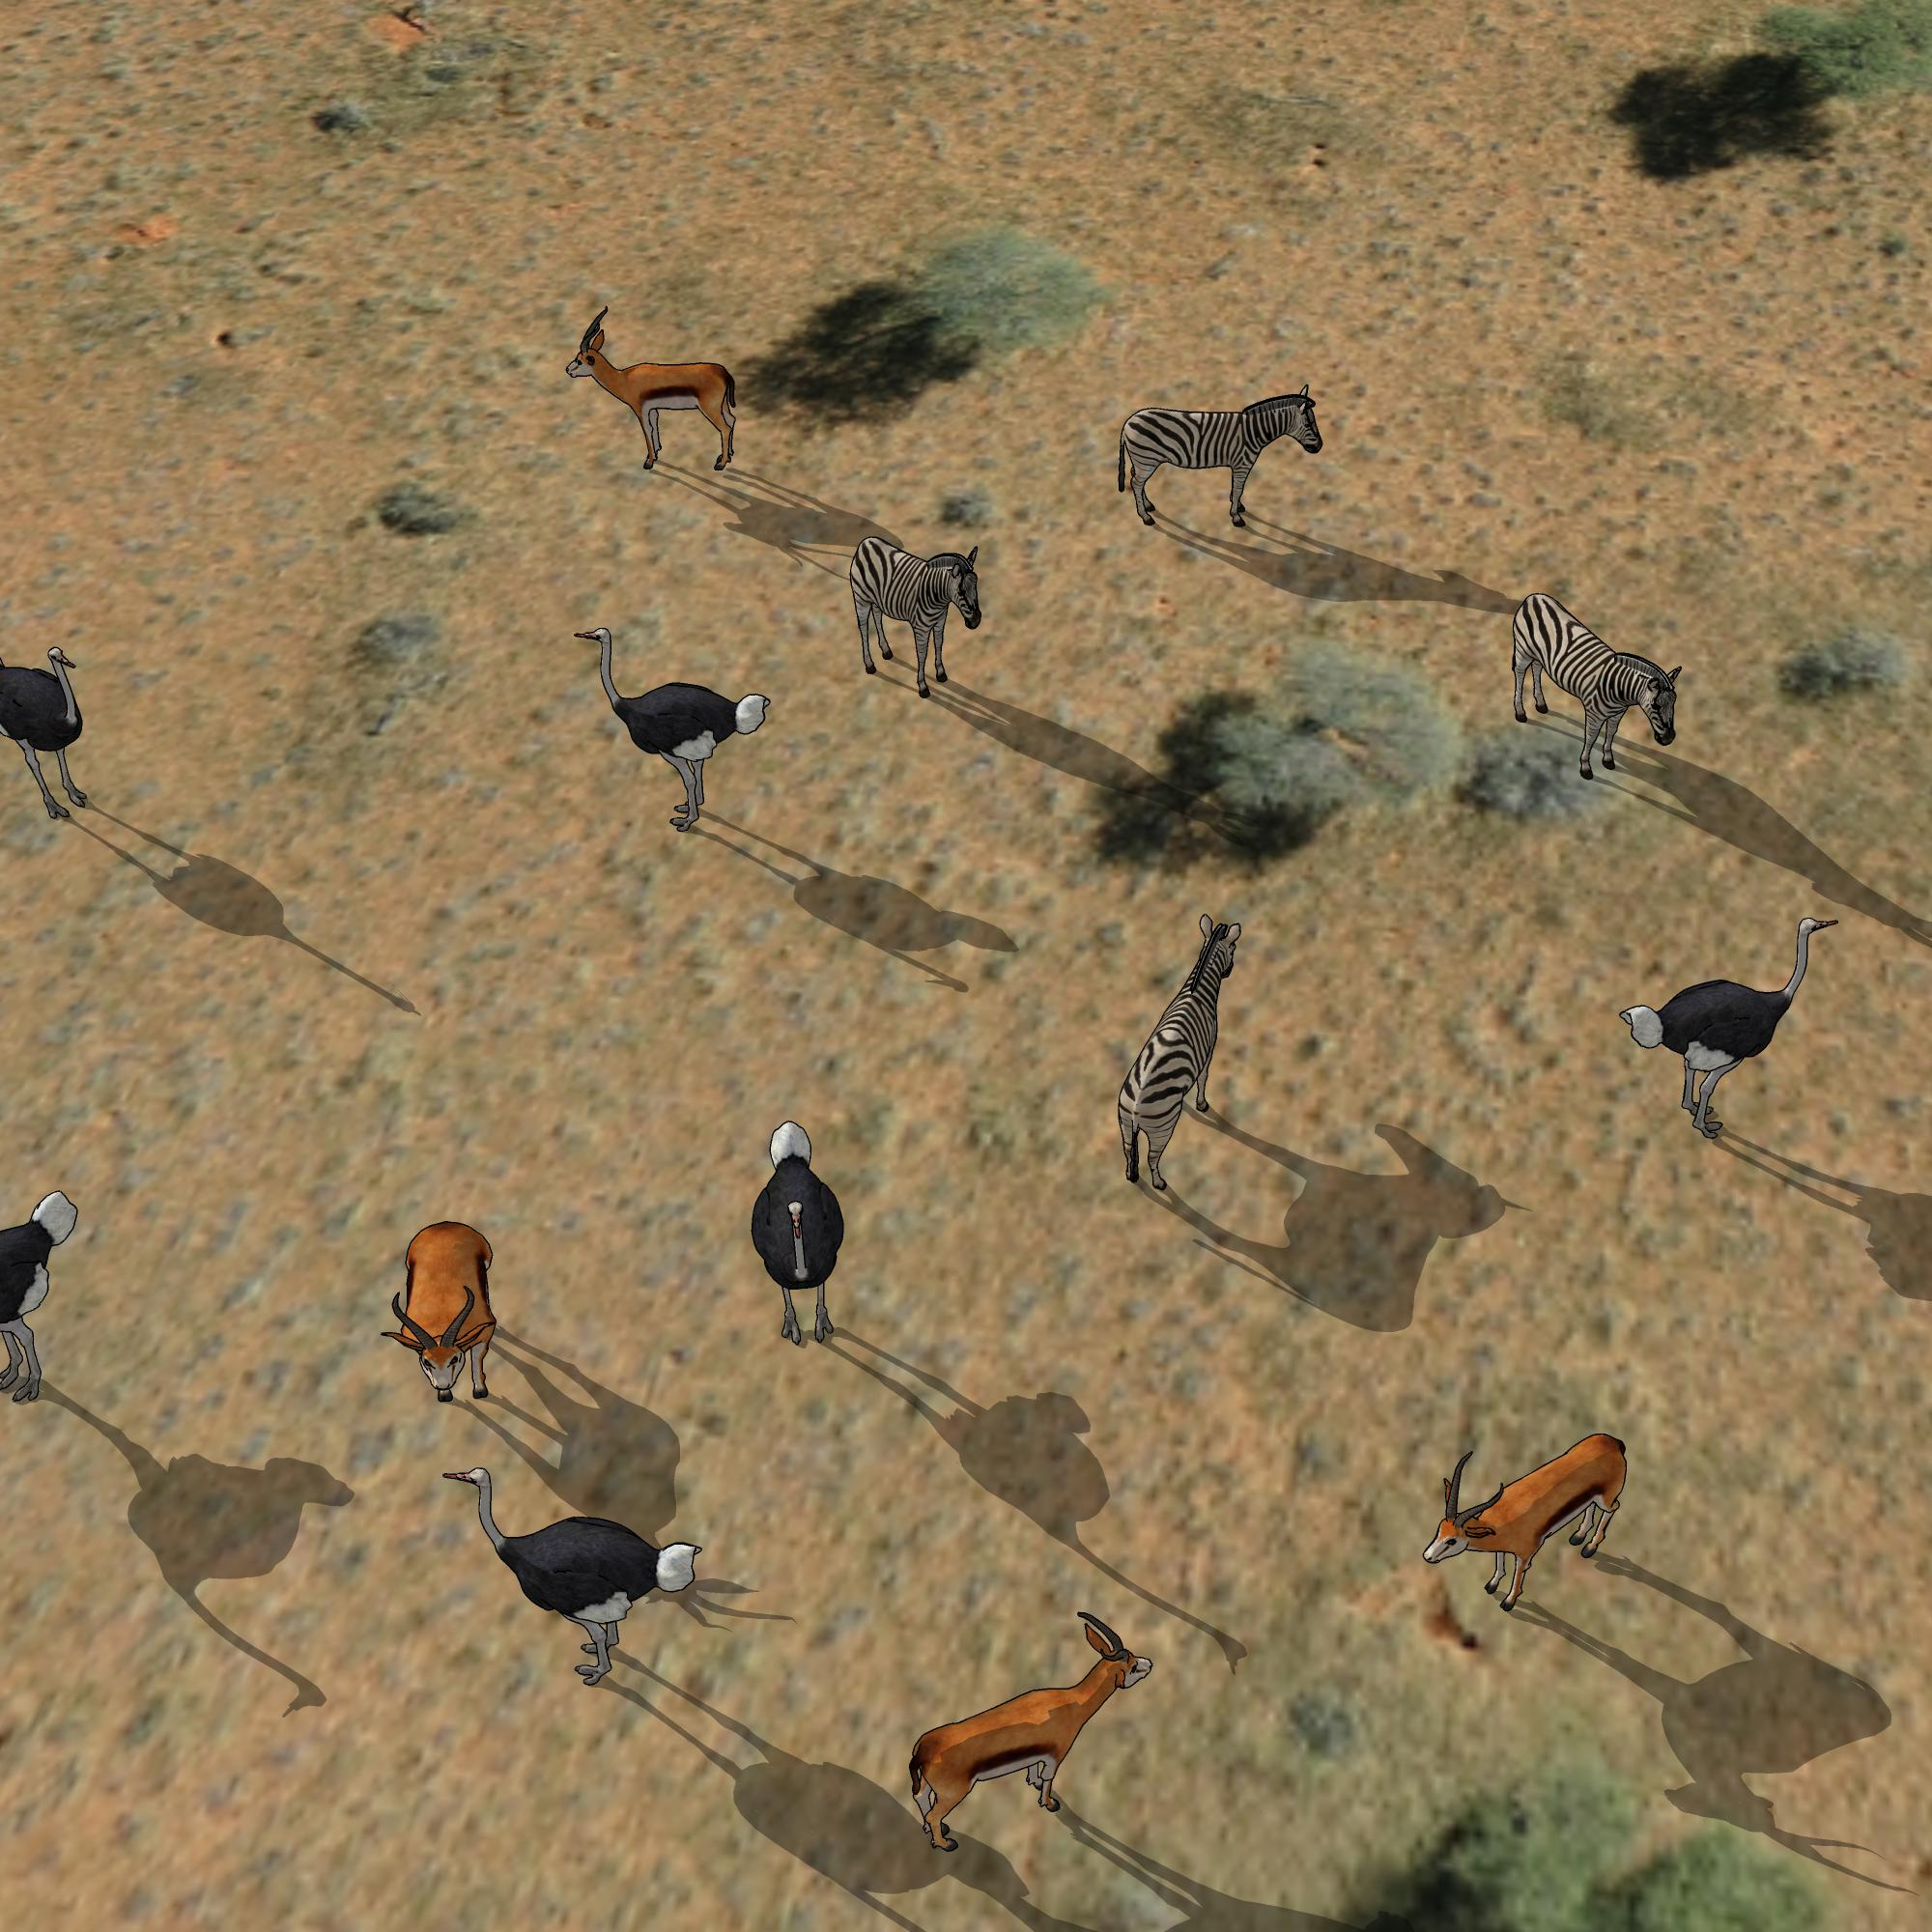ostrich: (440, 1463, 713, 1691), (1617, 901, 1844, 1150), (570, 621, 776, 838), (733, 1092, 858, 1356), (1, 639, 99, 845), (1, 1180, 85, 1417)
springbok: (893, 1612, 1160, 1857), (1422, 1433, 1648, 1626), (570, 303, 751, 476), (382, 1193, 504, 1406)
zebra: (1508, 576, 1693, 789), (1112, 901, 1236, 1188), (1114, 383, 1341, 540), (839, 522, 987, 705)
